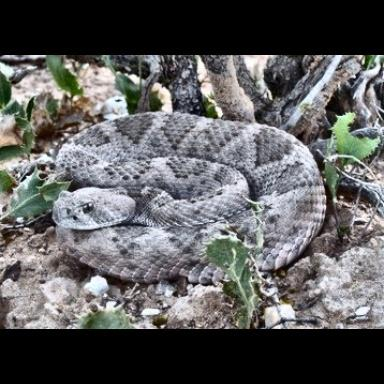snake: (54, 113, 328, 283)
